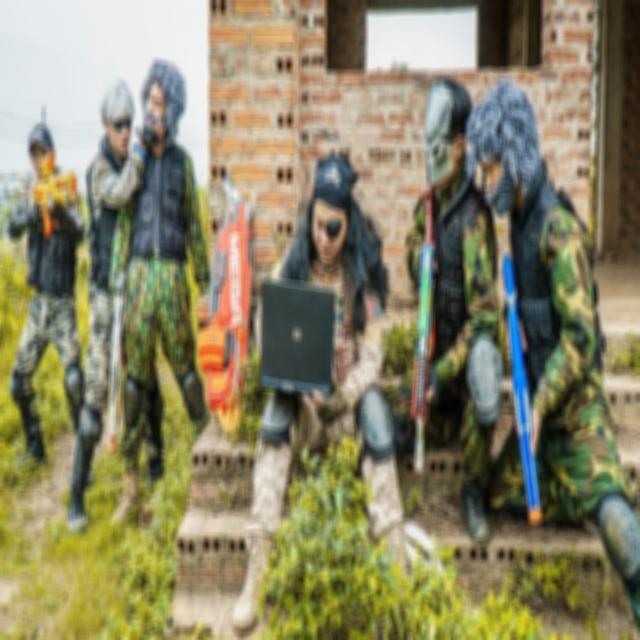Nerf gun: (188, 168, 260, 450), (495, 242, 551, 538), (404, 182, 438, 481), (24, 148, 84, 242), (105, 267, 129, 455)
